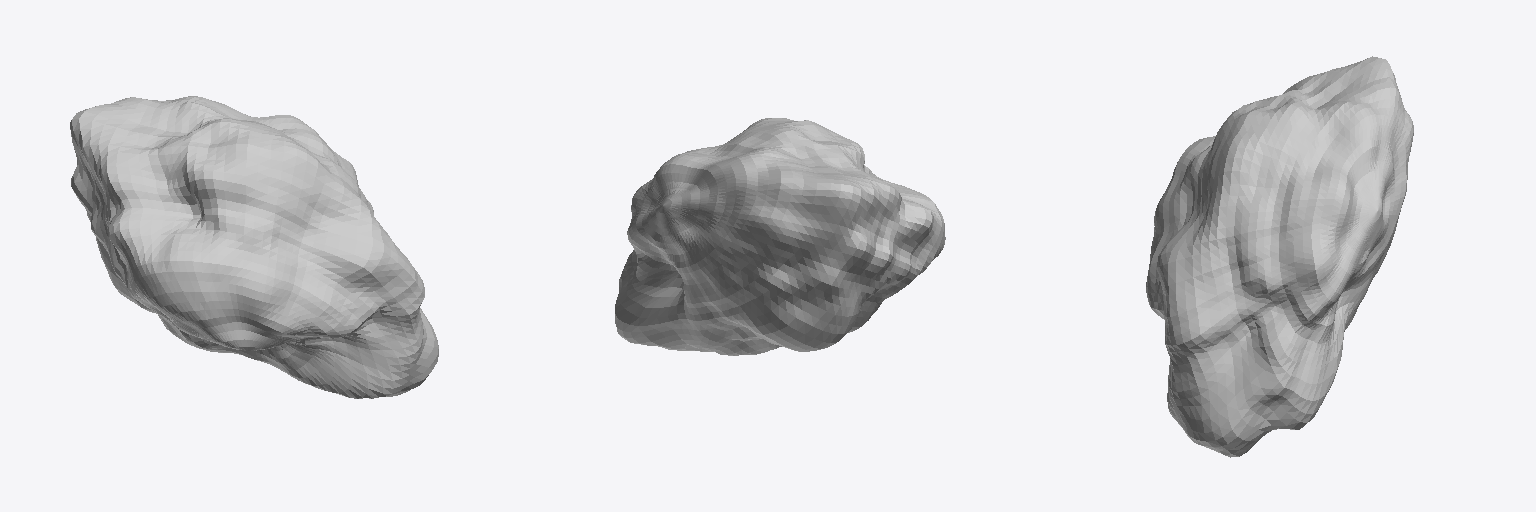
The model's file is Rock3.obj.
3 renders of one model, left to right at view 1: azimuth 30°, elevation 25°; view 2: azimuth 150°, elevation 25°; view 3: azimuth 270°, elevation 25°, orthographic.
Visible parts, largest first — view 1: Sphere.001; view 2: Sphere.001; view 3: Sphere.001.
Boxes of the visible parts, box(x1,y1,x2,y2) form: Sphere.001: box(70, 96, 438, 398); Sphere.001: box(615, 118, 945, 355); Sphere.001: box(1146, 56, 1413, 457).
Bounding box in the file's own units: 16.51 × 14.07 × 12.38.